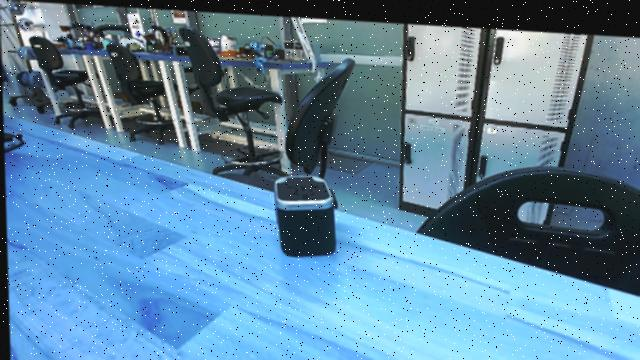adapter: (264, 161, 341, 261)
